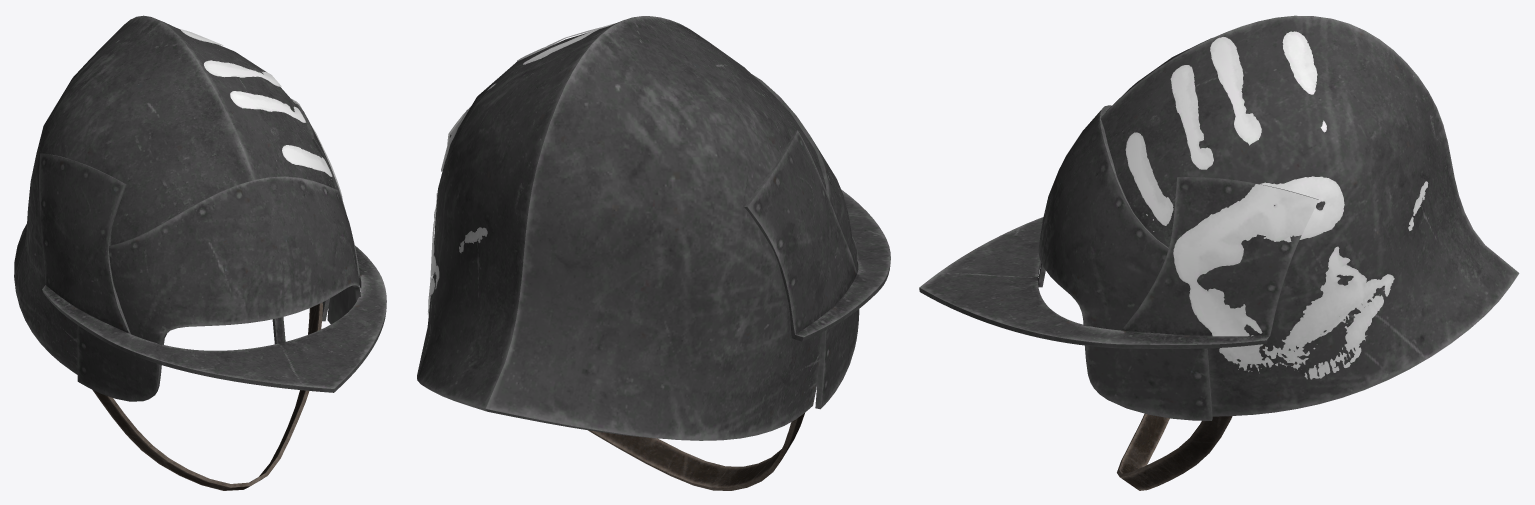
File: sk_uruk_hai_helmet_cross_a1.fbx
3 renders of one model, left to right at view 1: azimuth 30°, elevation 25°; view 2: azimuth 150°, elevation 25°; view 3: azimuth 270°, elevation 25°, orthographic. The views are drawn at different scales.
Parts seen in each view (by area): view 1: sk_uruk_hai_helmet_cross_a1.2, sk_uruk_hai_helmet_cross_a1.1, sk_uruk_hai_helmet_cross_a1.0; view 2: sk_uruk_hai_helmet_cross_a1.2, sk_uruk_hai_helmet_cross_a1.1, sk_uruk_hai_helmet_cross_a1.0; view 3: sk_uruk_hai_helmet_cross_a1.2, sk_uruk_hai_helmet_cross_a1.0, sk_uruk_hai_helmet_cross_a1.1.
Boxes of the visible parts, x1,y1,x2,y2 form: sk_uruk_hai_helmet_cross_a1.2: [14, 15, 386, 401]; sk_uruk_hai_helmet_cross_a1.1: [92, 302, 322, 490]; sk_uruk_hai_helmet_cross_a1.0: [180, 29, 342, 199]; sk_uruk_hai_helmet_cross_a1.2: [417, 16, 890, 440]; sk_uruk_hai_helmet_cross_a1.1: [588, 413, 804, 490]; sk_uruk_hai_helmet_cross_a1.0: [428, 23, 615, 314]; sk_uruk_hai_helmet_cross_a1.2: [919, 15, 1519, 420]; sk_uruk_hai_helmet_cross_a1.0: [1125, 31, 1428, 379]; sk_uruk_hai_helmet_cross_a1.1: [1117, 413, 1232, 490].
Bounding box in the file's own units: 0.2266 × 0.3648 × 0.3137.
3 materials, 3 textured.
